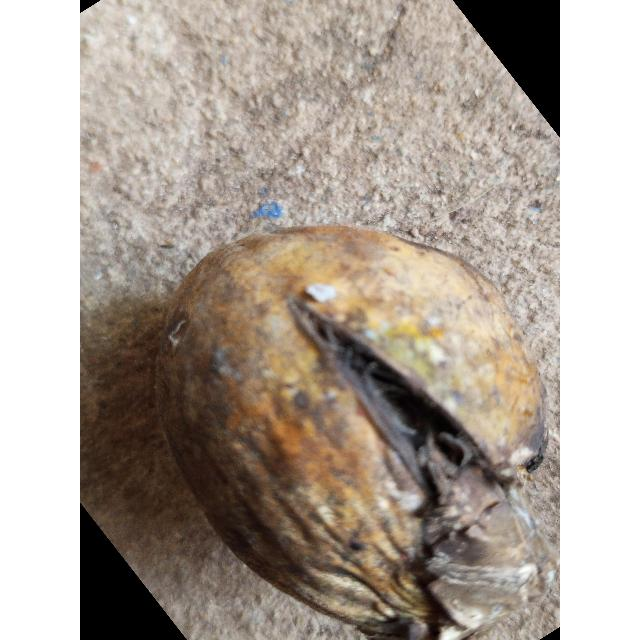damaged: (154, 224, 556, 640)
